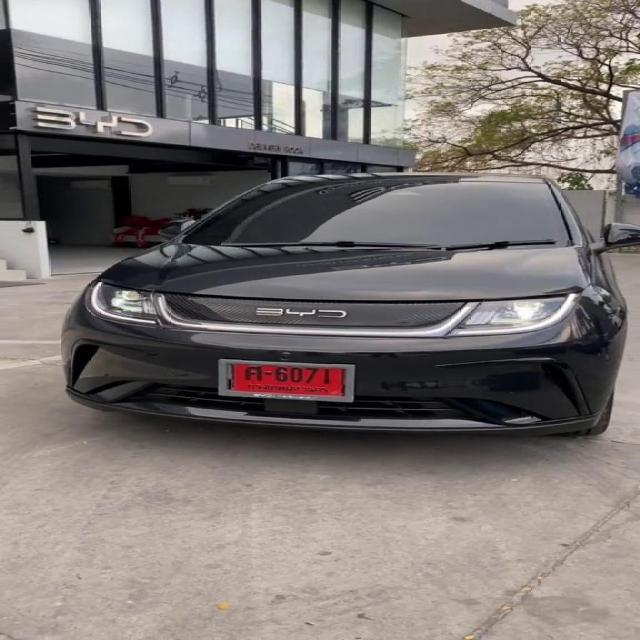Hatchback: (62, 172, 639, 436)
